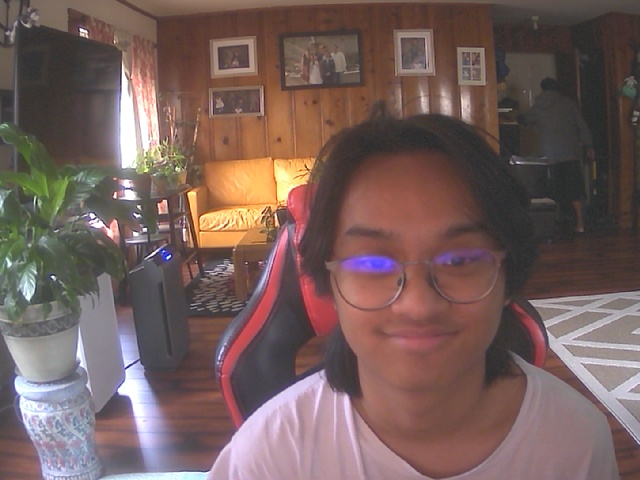happy: (320, 124, 525, 398)
